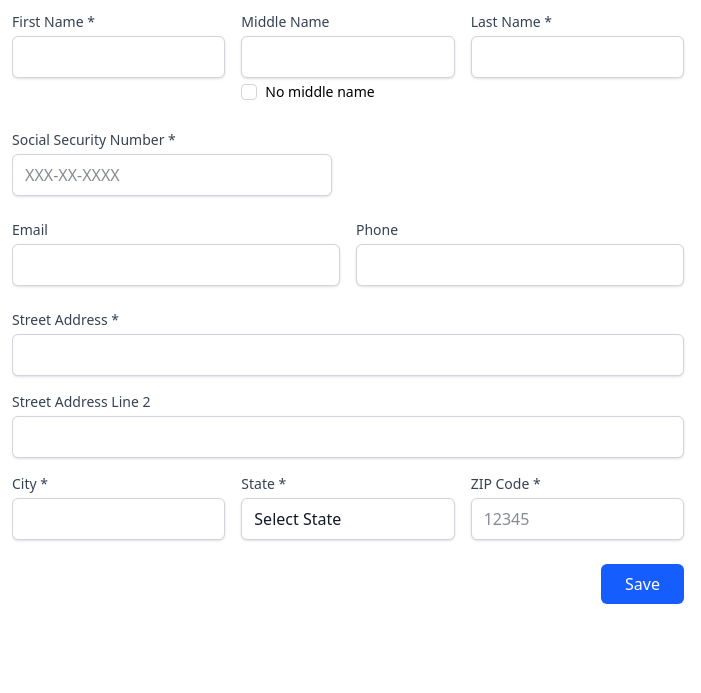
Test case: PiiForm › validates SSN format and shows specific error messages
The width and height of the screenshot is (701, 693).
# Test invalid SSN with area 000
In the field labelled "Social Security Number *": (172, 175) top-left (12, 154), bottom-right (332, 196), type "000-12-3456"
Click the button "Save": (643, 584) top-left (601, 564), bottom-right (684, 604)
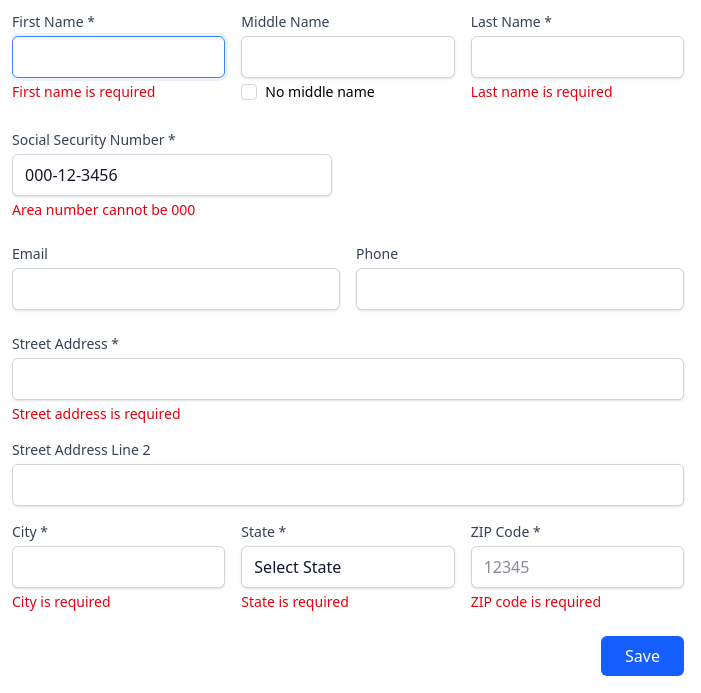
Result: the text "Area number cannot be 000" is shown at top-left (12, 200), bottom-right (195, 219)
# Test invalid SSN with group 00
Replace the text in the field labelled "Social Security Number *" with "123-00-4567": (172, 175) top-left (12, 154), bottom-right (332, 196)
Click the button "Save": (643, 656) top-left (601, 636), bottom-right (684, 676)
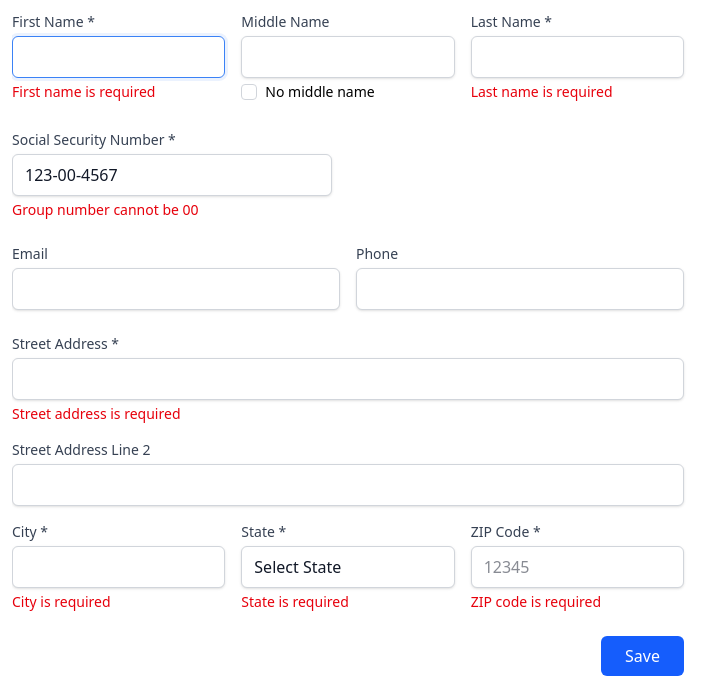
Result: the text "Group number cannot be 00" is shown at top-left (12, 200), bottom-right (199, 219)
# Test invalid SSN with serial 0000
Replace the text in the field labelled "Social Security Number *" with "123-45-0000": (172, 175) top-left (12, 154), bottom-right (332, 196)
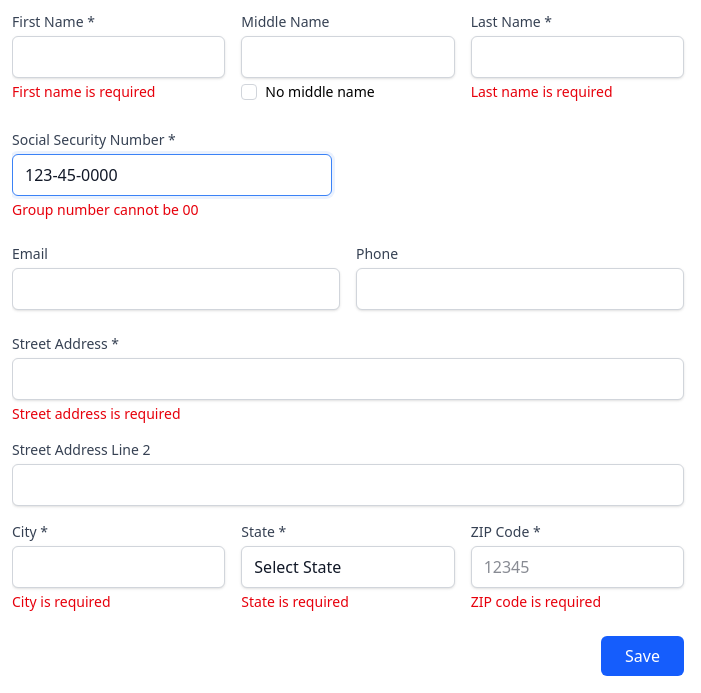
Click the button "Save": (643, 656) top-left (601, 636), bottom-right (684, 676)
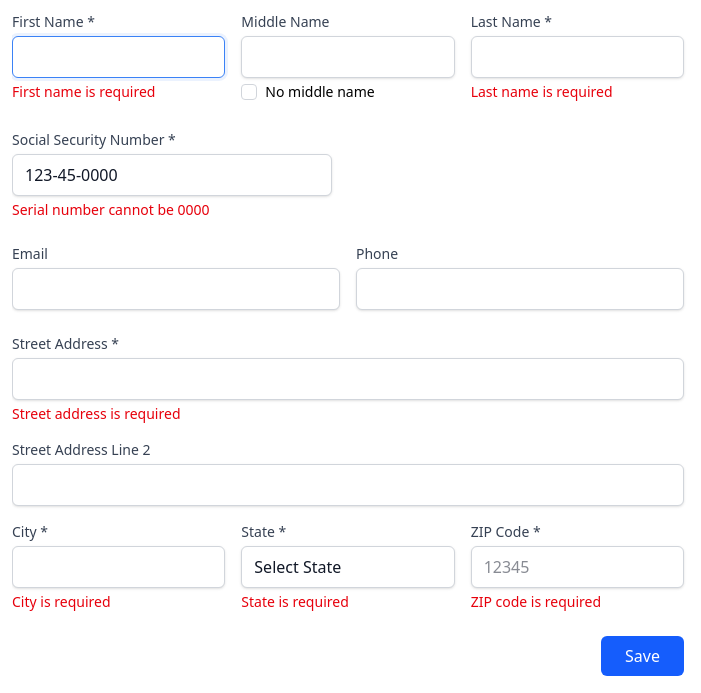
Result: the text "Serial number cannot be 0000" is shown at top-left (12, 200), bottom-right (210, 219)
# Test known invalid SSN
Replace the text in the field labelled "Social Security Number *" with "123-45-6789": (172, 175) top-left (12, 154), bottom-right (332, 196)
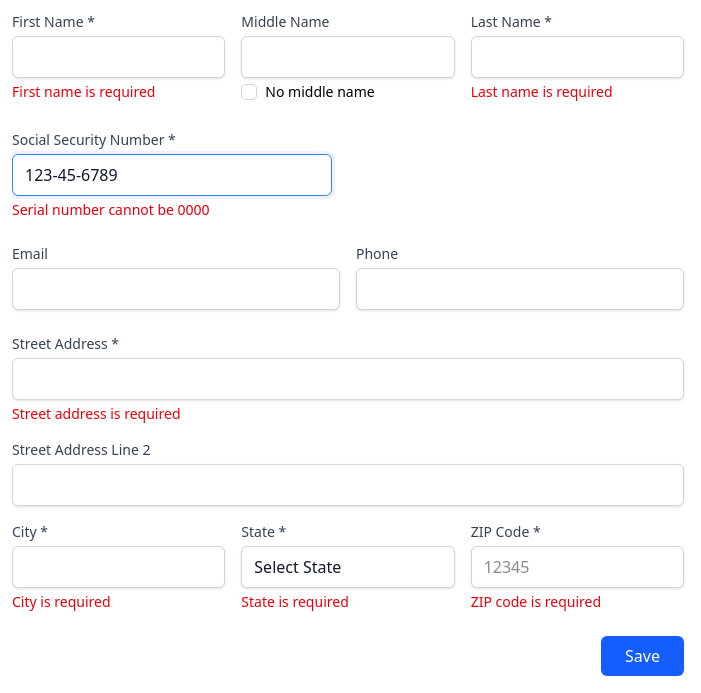
Click the button "Save": (643, 656) top-left (601, 636), bottom-right (684, 676)
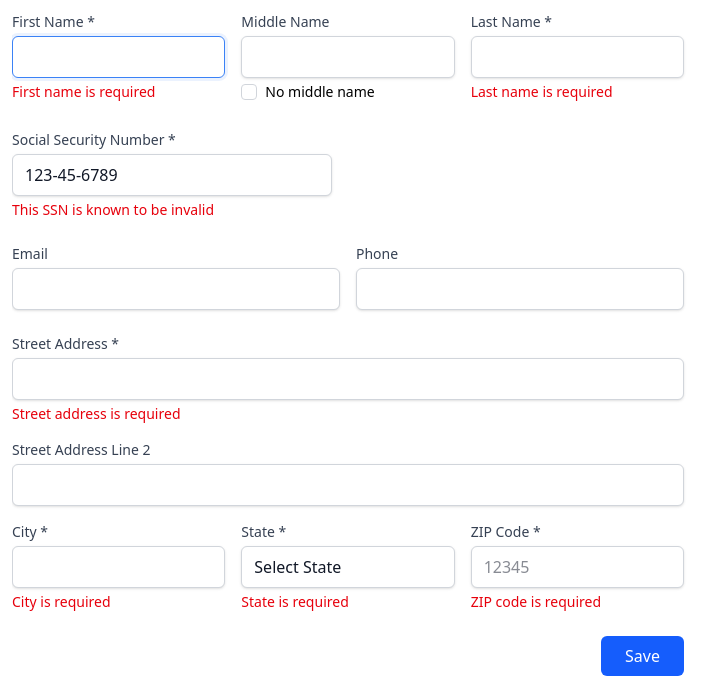
Result: the text "This SSN is known to be invalid" is shown at top-left (12, 200), bottom-right (214, 219)
